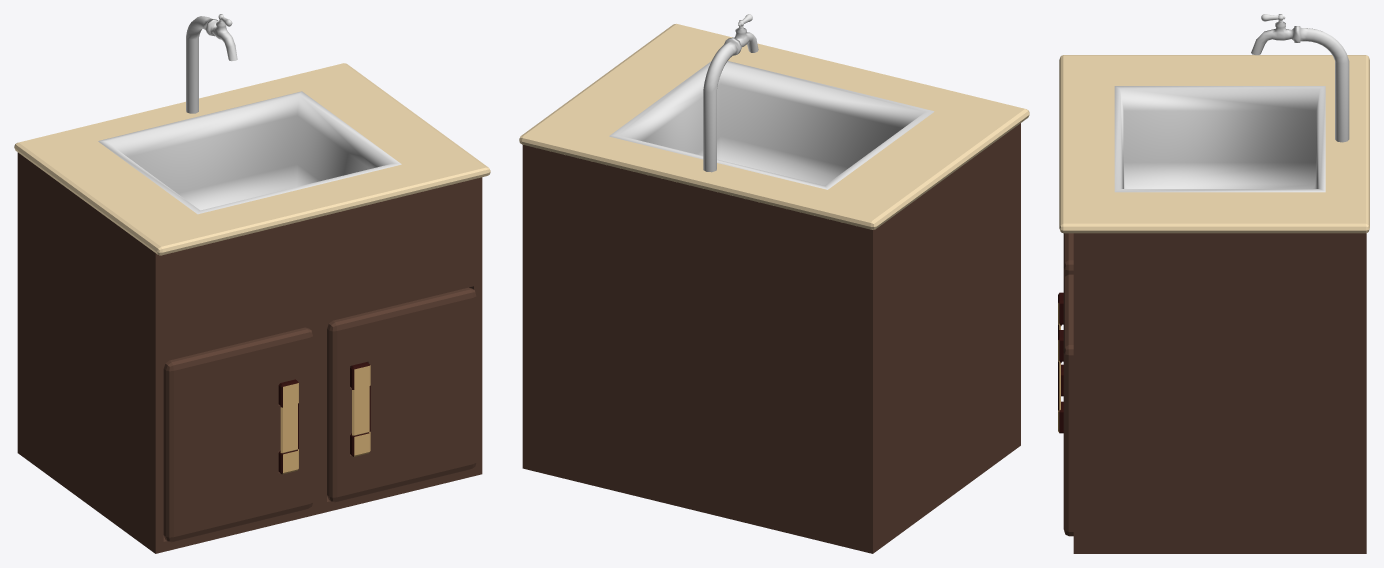
File: sink.fbx
3 views of the same model, side by side, from view 1: azimuth 30°, elevation 25°; view 2: azimuth 150°, elevation 25°; view 3: azimuth 270°, elevation 25° (orthographic). The views are drawn at different scales.
Parts seen in each view (by area): view 1: Cube, Cube.002, Plane, Sink, Cube.001, Crane; view 2: Cube, Plane, Sink, Crane; view 3: Cube, Plane, Sink, Cube.002, Crane, Cube.001.
Boxes of the visible parts, box(x1,y1,x2,y2) form: Cube: box(17, 152, 482, 553); Cube.002: box(163, 287, 476, 542); Plane: box(14, 63, 490, 255); Sink: box(98, 91, 401, 214); Cube.001: box(278, 362, 370, 474); Crane: box(186, 16, 237, 113); Cube: box(522, 123, 1020, 553); Plane: box(519, 23, 1029, 229); Sink: box(609, 61, 934, 189); Crane: box(703, 27, 758, 172); Cube: box(1073, 233, 1366, 553); Plane: box(1059, 55, 1369, 233); Sink: box(1114, 86, 1325, 192); Cube.002: box(1063, 233, 1073, 536); Crane: box(1251, 21, 1349, 142); Cube.001: box(1058, 292, 1063, 433).
Size of the model in its own units: 334 by 411 by 255.
